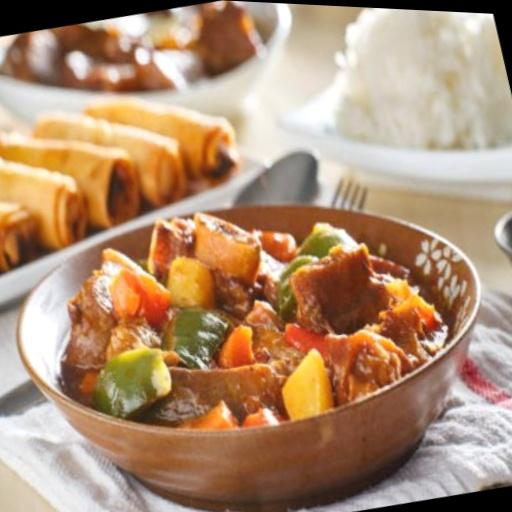pork caldereta: (50, 225, 454, 432)
